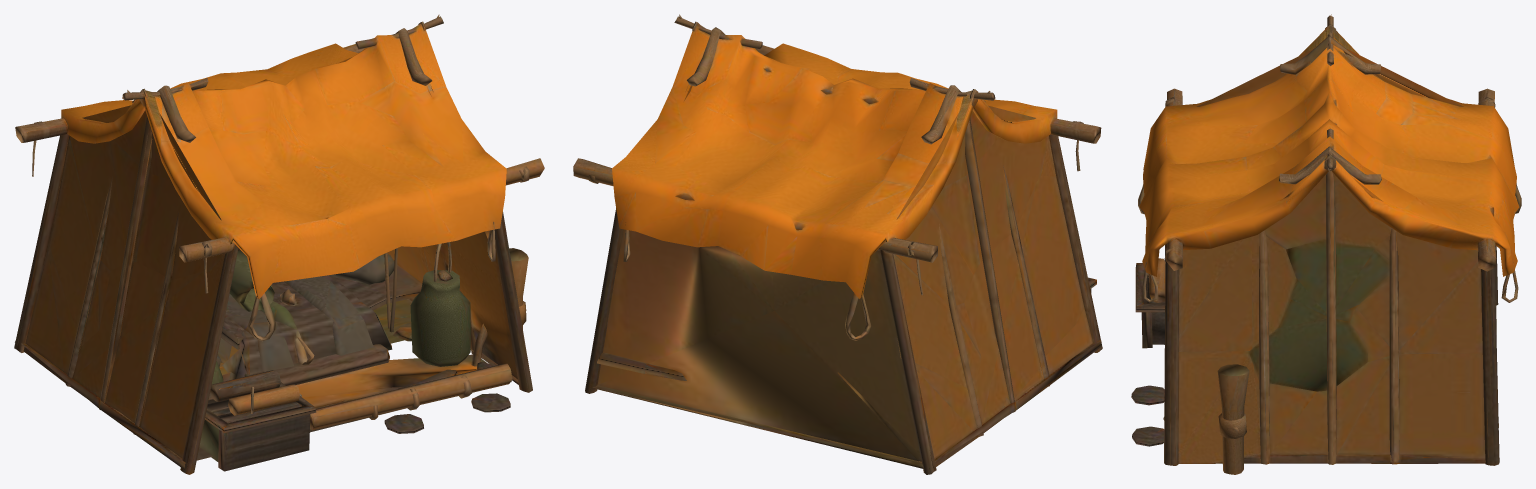
The model's file is checkpoint-camp.glb.
The picture shows the model from 3 angles, left to right: view 1: azimuth 30°, elevation 25°; view 2: azimuth 150°, elevation 25°; view 3: azimuth 270°, elevation 25°; orthographic projection. The views are drawn at different scales.
Bounding box in the file's own units: 1 × 0.8102 × 0.9477.
1 material, 1 textured.
